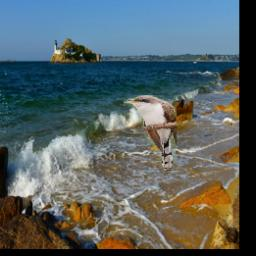Cuckoo: (124, 96, 177, 172)
